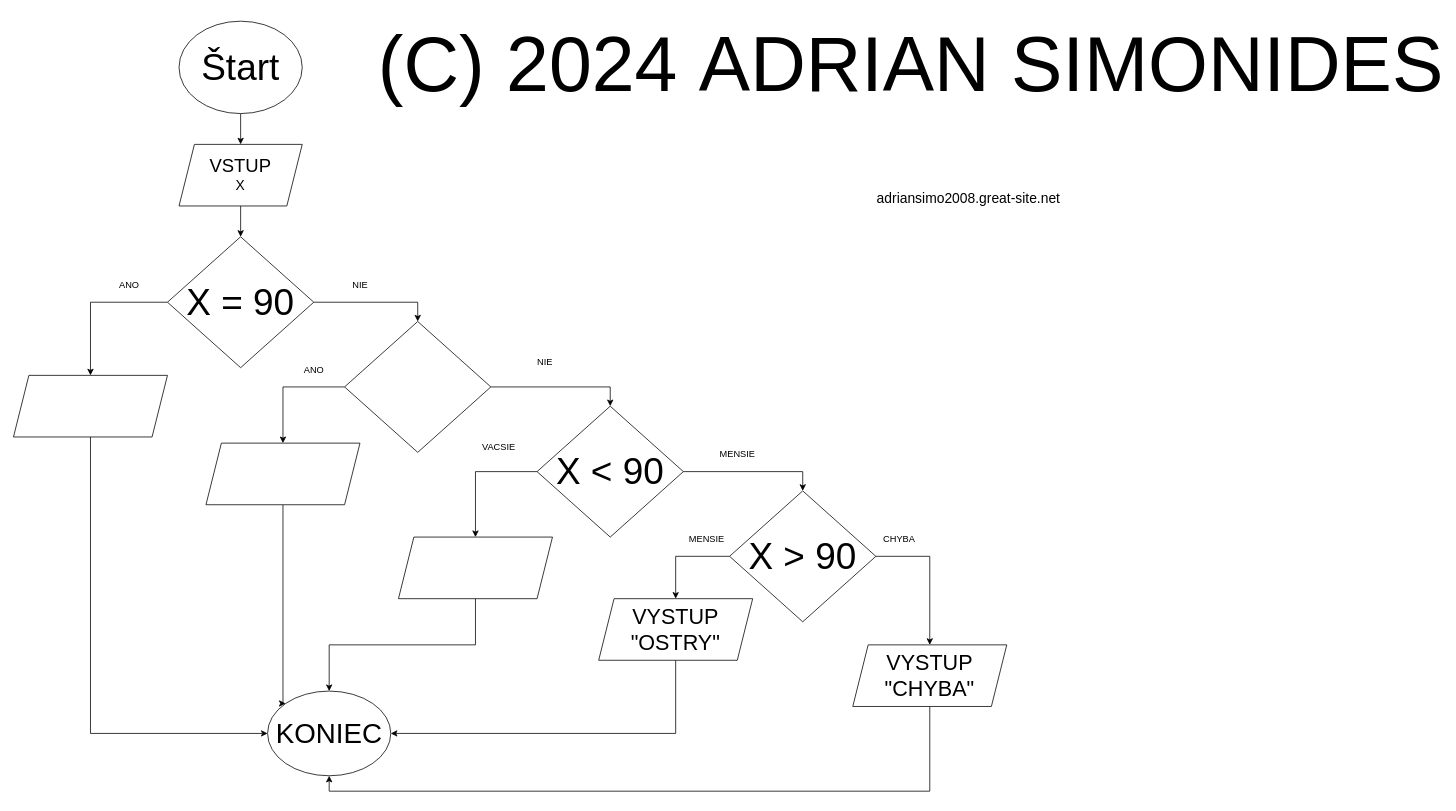
Image size: 1456x811. Some labels were removed from this diagram. Each missing label, with the centre of its shape:
VYSTUP "PRAVY": [90,406]
VYSTUP "PRiamy": [282,473]
VYSTUP "TUPY": [475,567]
X = 180: [417,386]
